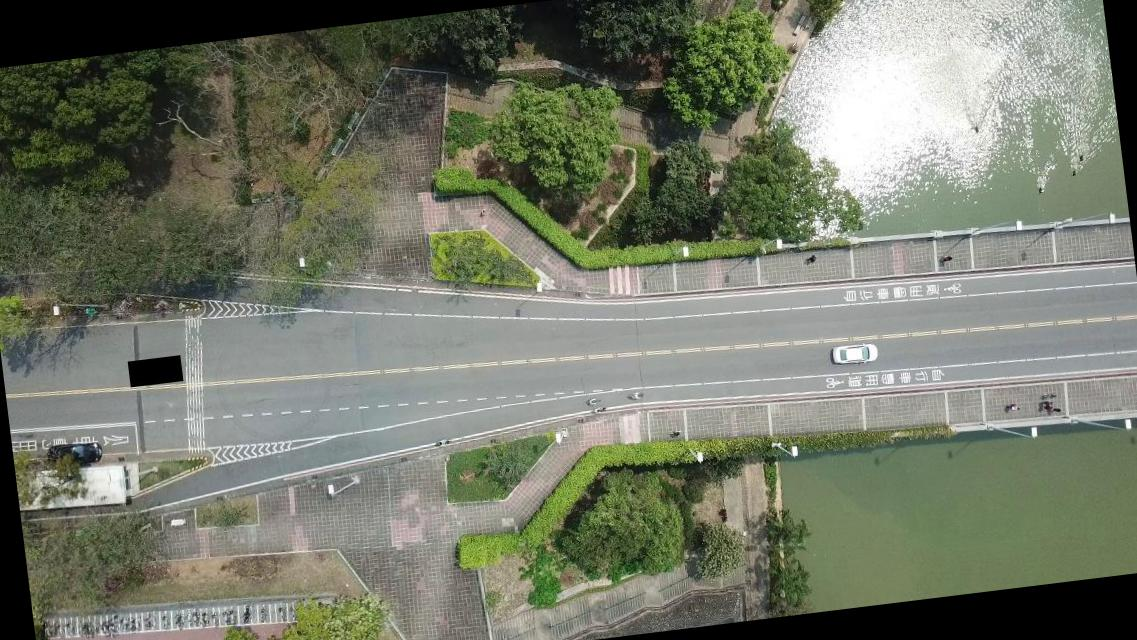vehicle: (46, 438, 102, 468), (829, 340, 877, 367)
